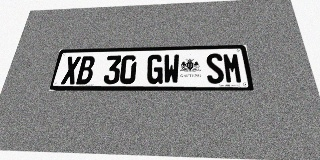0: (119, 55, 137, 84)
3: (103, 55, 122, 84)
B: (76, 56, 96, 84)
G: (146, 54, 163, 84)
M: (222, 53, 243, 84)
S: (205, 53, 225, 84)
W: (163, 54, 180, 84)
X: (61, 56, 81, 84)
